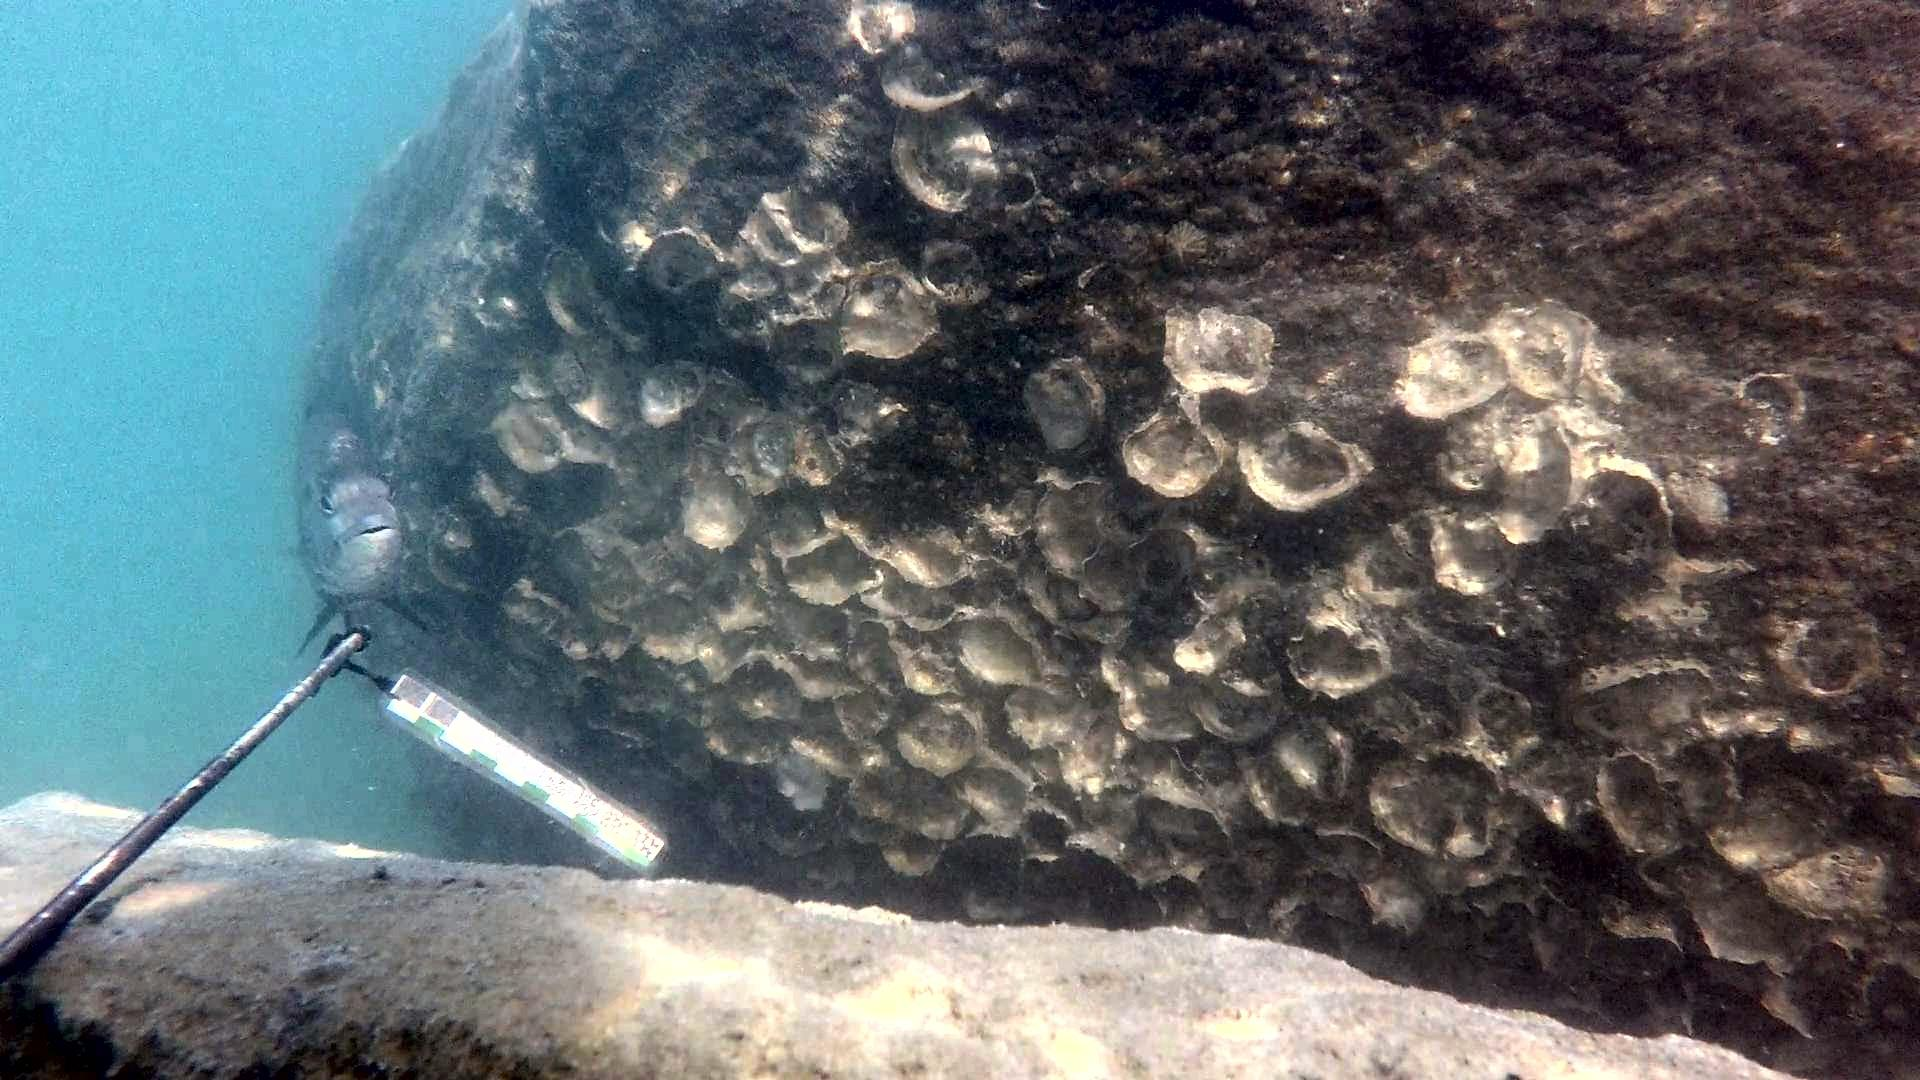acanthopagrus palmaris: (265, 393, 445, 661)
